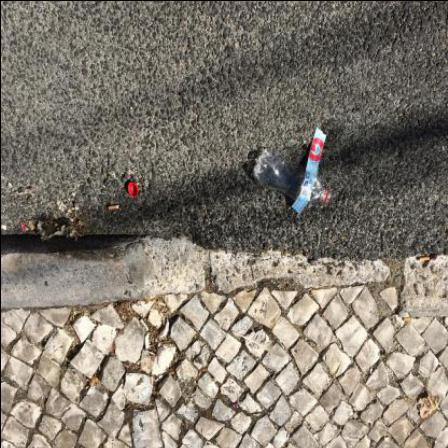Bottle: (253, 149, 331, 205)
Bottle cap: (128, 183, 139, 198)
Cigarette: (145, 350, 156, 356), (420, 256, 430, 261), (109, 206, 120, 210), (404, 318, 414, 322)
Paper: (291, 127, 327, 213)
